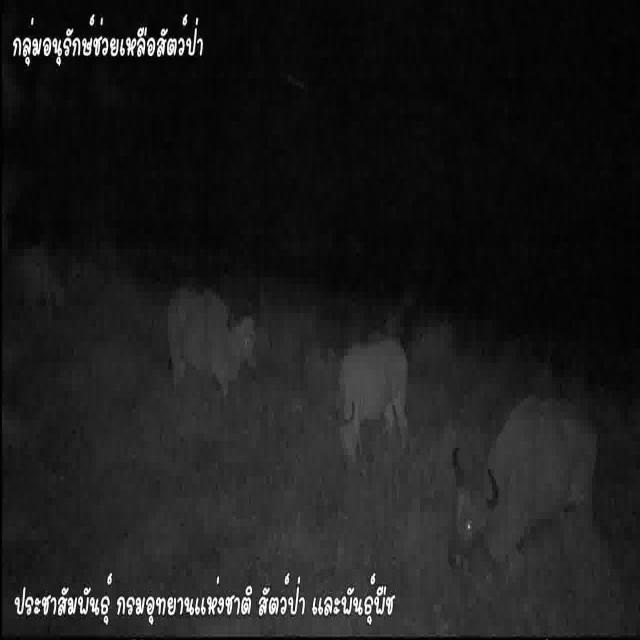Buffalo: (446, 398, 582, 572), (322, 332, 410, 451), (166, 281, 258, 385)
